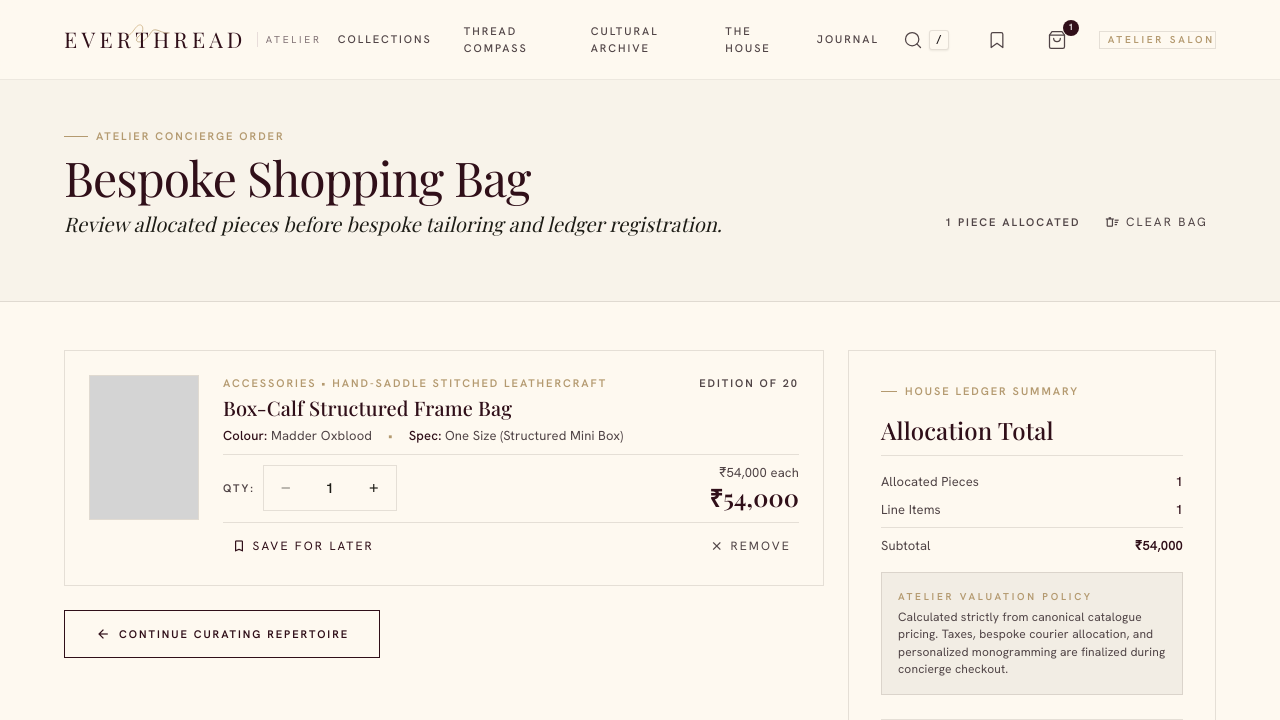
Test: EverThread Stage 3.5: Saved Pieces & Shopping Bag Suite › 6. Quantity Updates & Item Removal in Shopping Bag › increments quantity and updates line total when clicking plus button
Expected: the text with test id "item-qty-0" reads "1", x1=326 y1=479 x2=334 y2=497
Expected: the text with test id "bag-item-total-0" reads "₹54,000", x1=709 y1=482 x2=799 y2=514
Click the button with test id "qty-plus-0": x=374, y=488 x1=352 y1=466 x2=396 y2=510
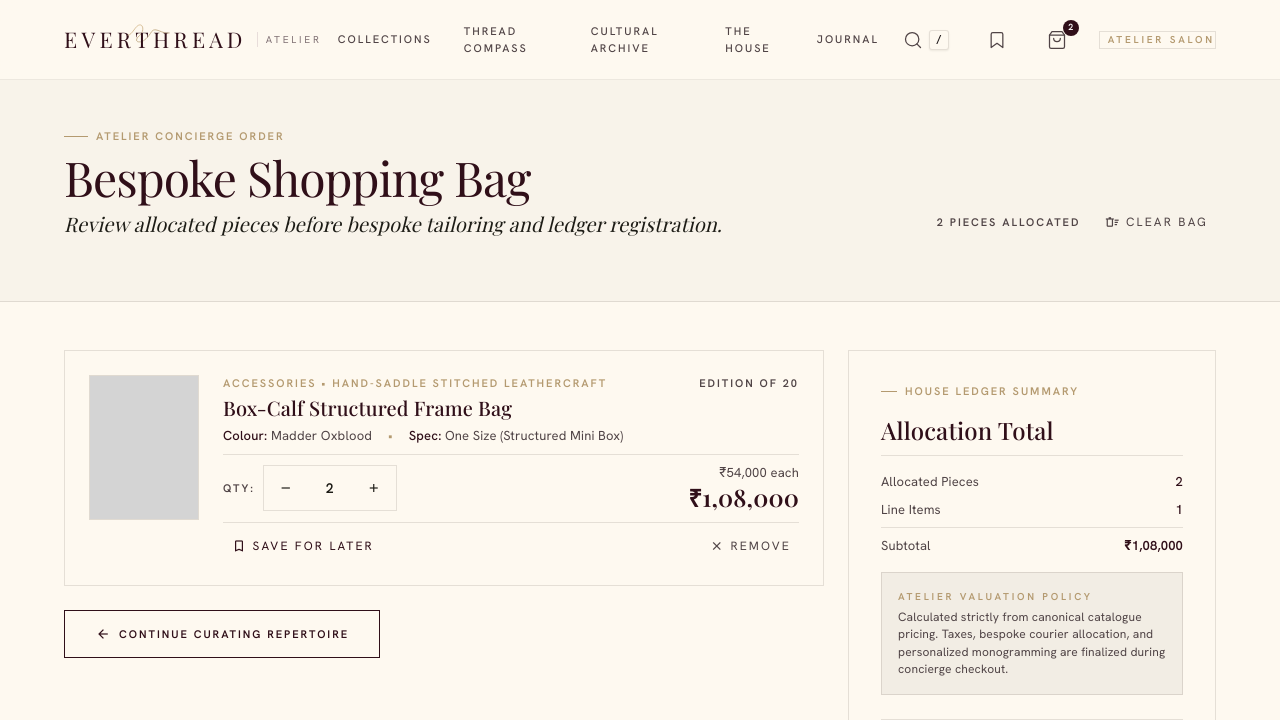
Result: the text with test id "item-qty-0" reads "2" at x1=326 y1=479 x2=334 y2=497
Result: the text with test id "bag-item-total-0" reads "₹1,08,000" at x1=688 y1=482 x2=799 y2=514
Result: the text with test id "bag-subtotal" reads "₹1,08,000" at x1=1124 y1=537 x2=1183 y2=554
